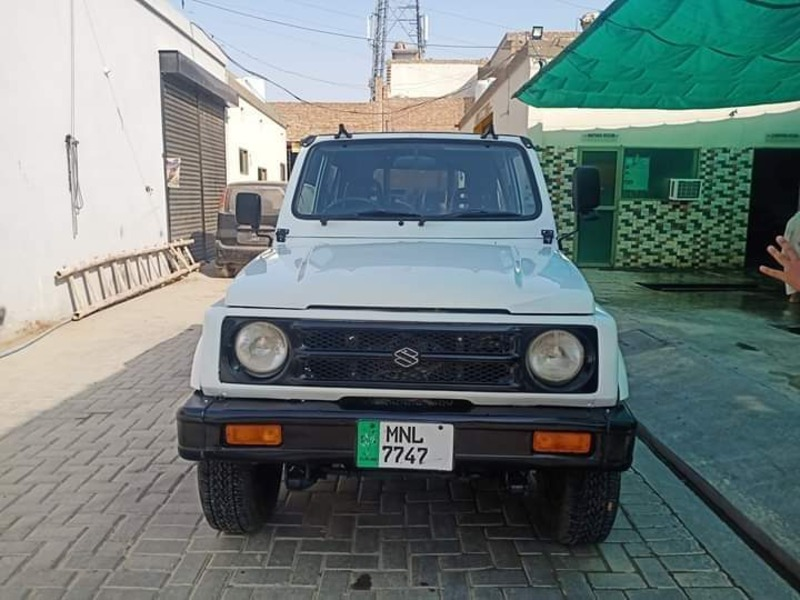License Plate: (350, 418, 462, 478)
